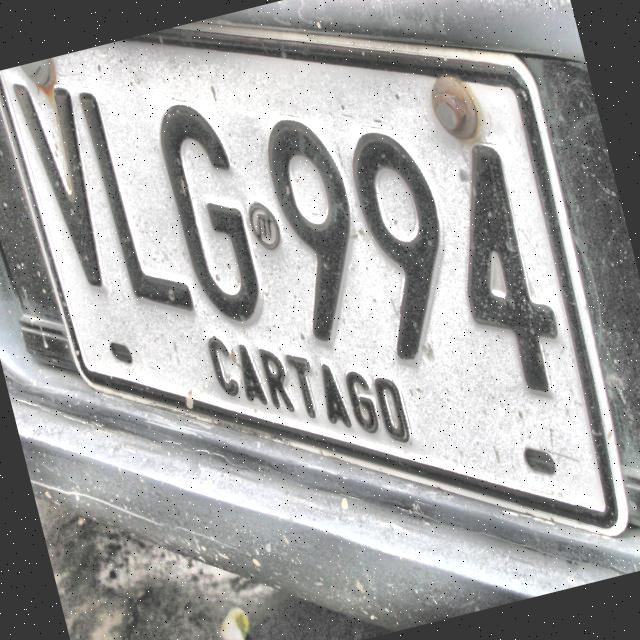4: (449, 143, 573, 403)
9: (339, 123, 455, 374), (253, 117, 362, 356)
G: (146, 98, 269, 328)
L: (74, 84, 204, 318)
V: (5, 81, 115, 291)
